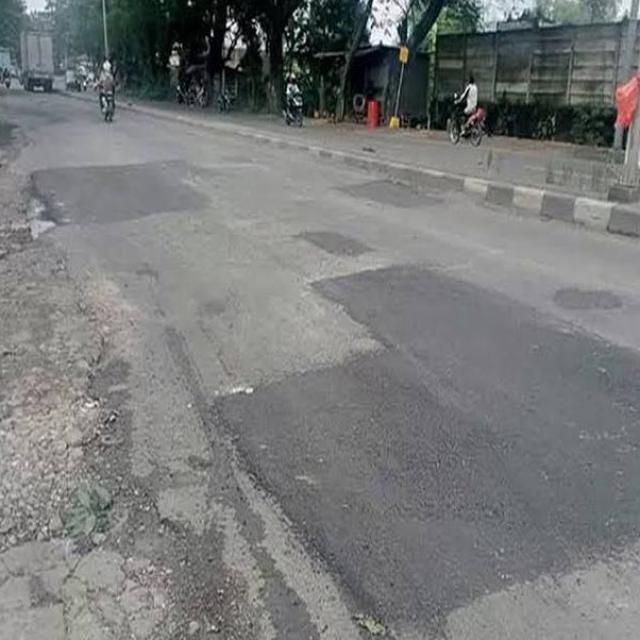Sambungan: (212, 256, 640, 630), (24, 159, 218, 226)
